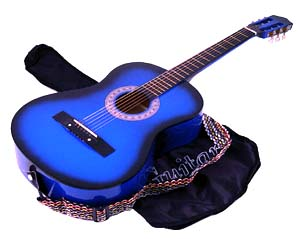guitar: (10, 14, 294, 221)
